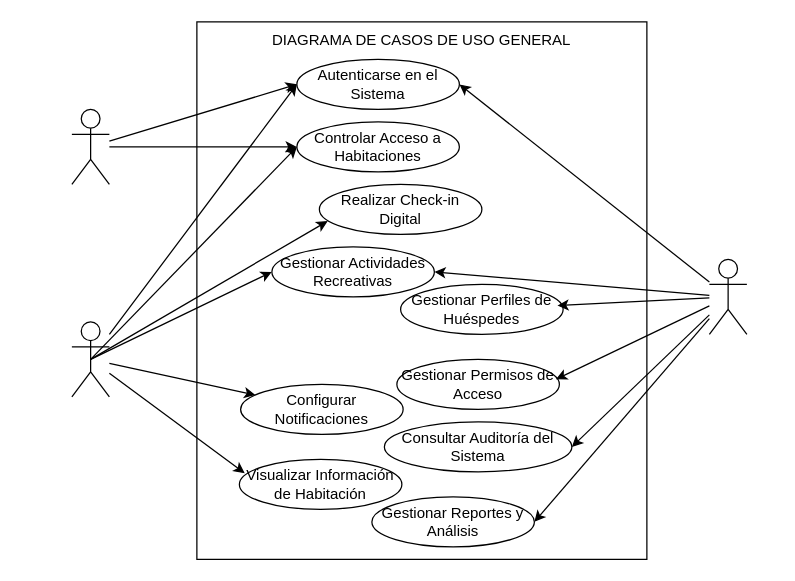
Some shapes in this 795 by 581 pixel diagram are drawn without their labels. Each missing label, with the box of its shape:
Administrador: (708, 258, 747, 334)
Huésped: (71, 321, 109, 397)
Personal de Servicio: (71, 108, 109, 184)
